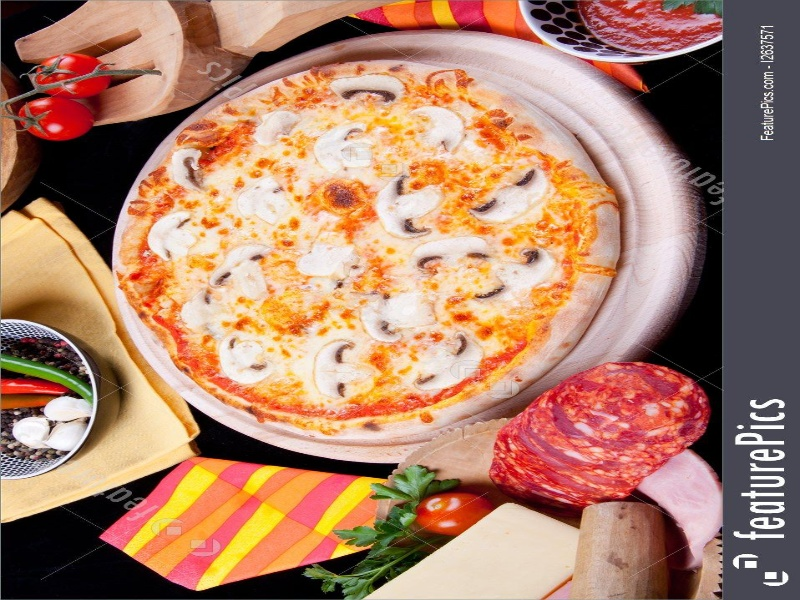champignon: (476, 247, 559, 319), (406, 332, 490, 398), (308, 335, 378, 412), (466, 166, 549, 226), (372, 177, 448, 239), (358, 285, 437, 344), (211, 243, 273, 313), (405, 101, 472, 163), (211, 333, 278, 387), (328, 67, 411, 108), (135, 211, 200, 263), (405, 234, 493, 272), (166, 149, 214, 201)
